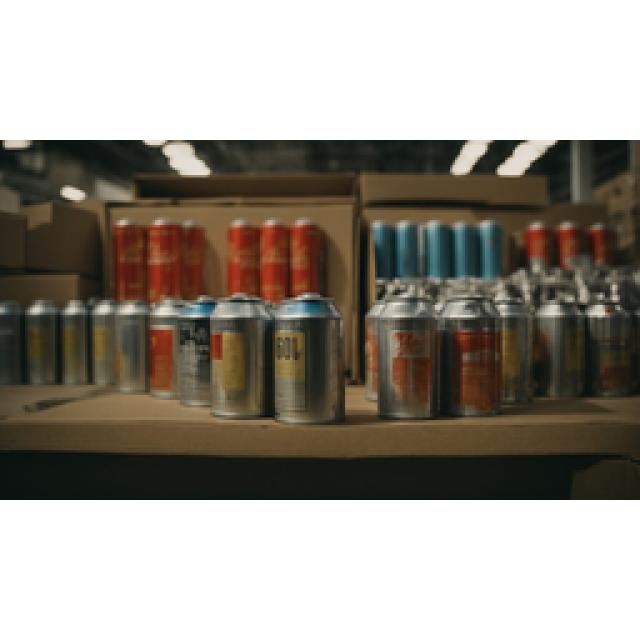alumunium: (0, 301, 346, 419), (381, 293, 639, 393), (114, 218, 324, 300), (387, 220, 624, 284)
